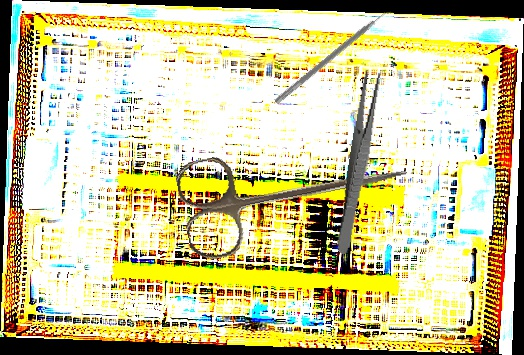Dressing Forceps: (334, 69, 383, 256)
Iris Scissors: (173, 118, 416, 264)
Spatula Surgical: (274, 5, 395, 110)
